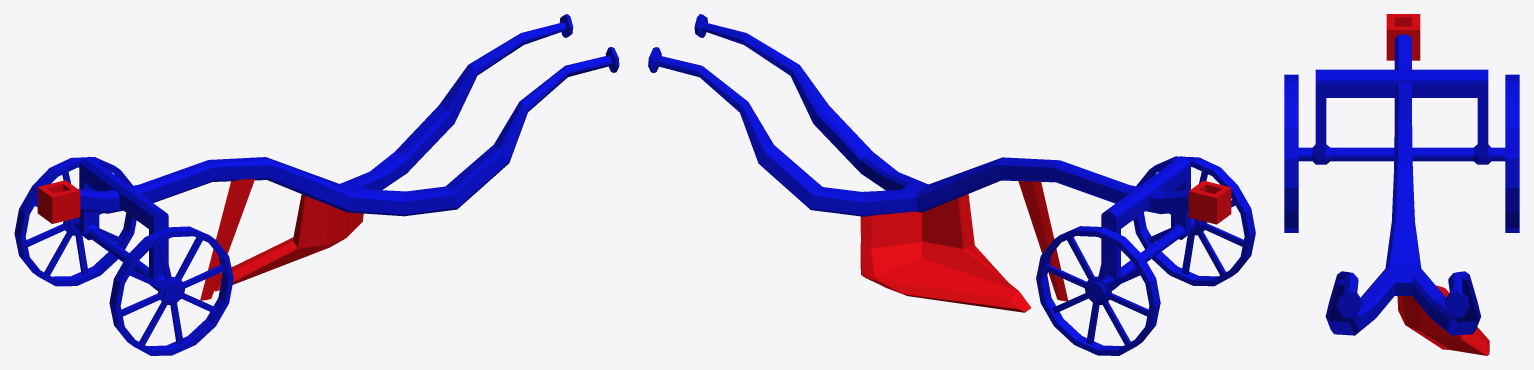
Rendered from SM_Plow.fbx.
3 views of the same model, side by side, from view 1: azimuth 30°, elevation 25°; view 2: azimuth 150°, elevation 25°; view 3: azimuth 270°, elevation 25° (orthographic). The views are drawn at different scales.
Parts seen in each view (by area): view 1: SM_Plow; view 2: SM_Plow; view 3: SM_Plow.
Boxes of the visible parts, left/top/right/bottom form: SM_Plow: left=14, top=14, right=619, bottom=355; SM_Plow: left=648, top=14, right=1255, bottom=355; SM_Plow: left=1284, top=14, right=1519, bottom=355.
Size of the model in its own units: 169 by 53.01 by 54.09.
